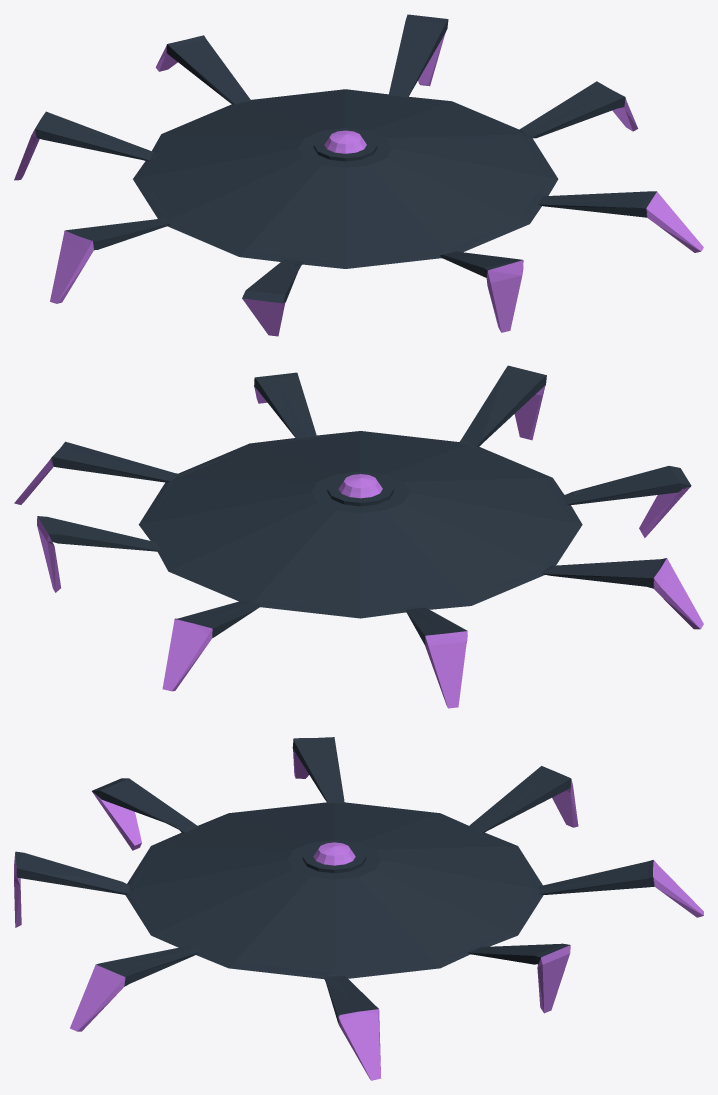
File: Spider_Walk_000016.obj
The picture shows the model from 3 angles, top to bottom: view 1: azimuth 30°, elevation 25°; view 2: azimuth 150°, elevation 25°; view 3: azimuth 270°, elevation 25°; orthographic projection. The views are drawn at different scales.
Visible parts, largest first — view 1: Circle_Circle.001; view 2: Circle_Circle.001; view 3: Circle_Circle.001.
Part boxes in pixels (left/top/right/bottom): Circle_Circle.001: left=14, top=14, right=703, bottom=336; Circle_Circle.001: left=14, top=365, right=703, bottom=708; Circle_Circle.001: left=14, top=737, right=703, bottom=1080.
Size of the model in its own units: 3.38 by 0.4491 by 3.26.
